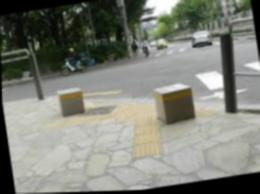Animal: (147, 80, 189, 126), (54, 86, 92, 123)
